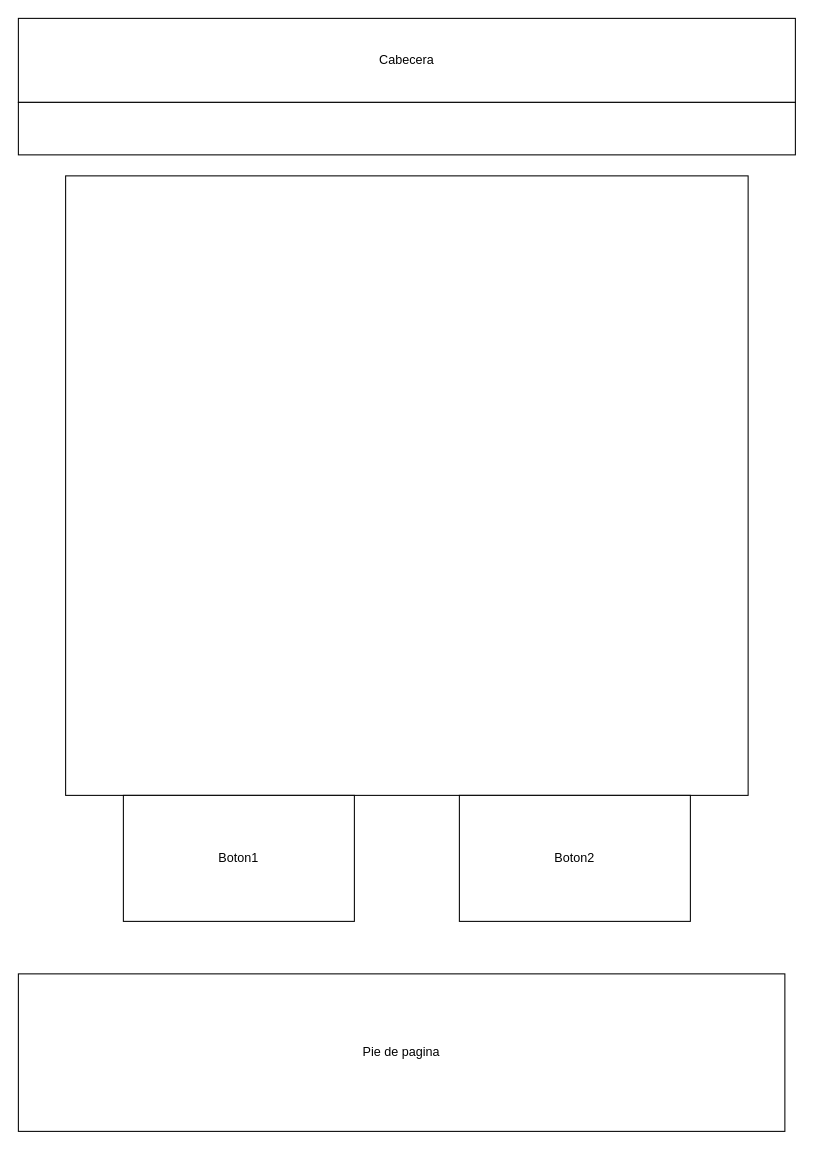
Some shapes in this 814 by 1150 pixel diagram are drawn without their labels. Each missing label, with the box of its shape:
Formulario: (65, 175, 748, 795)
Menu de navegacion: (17, 101, 795, 155)
